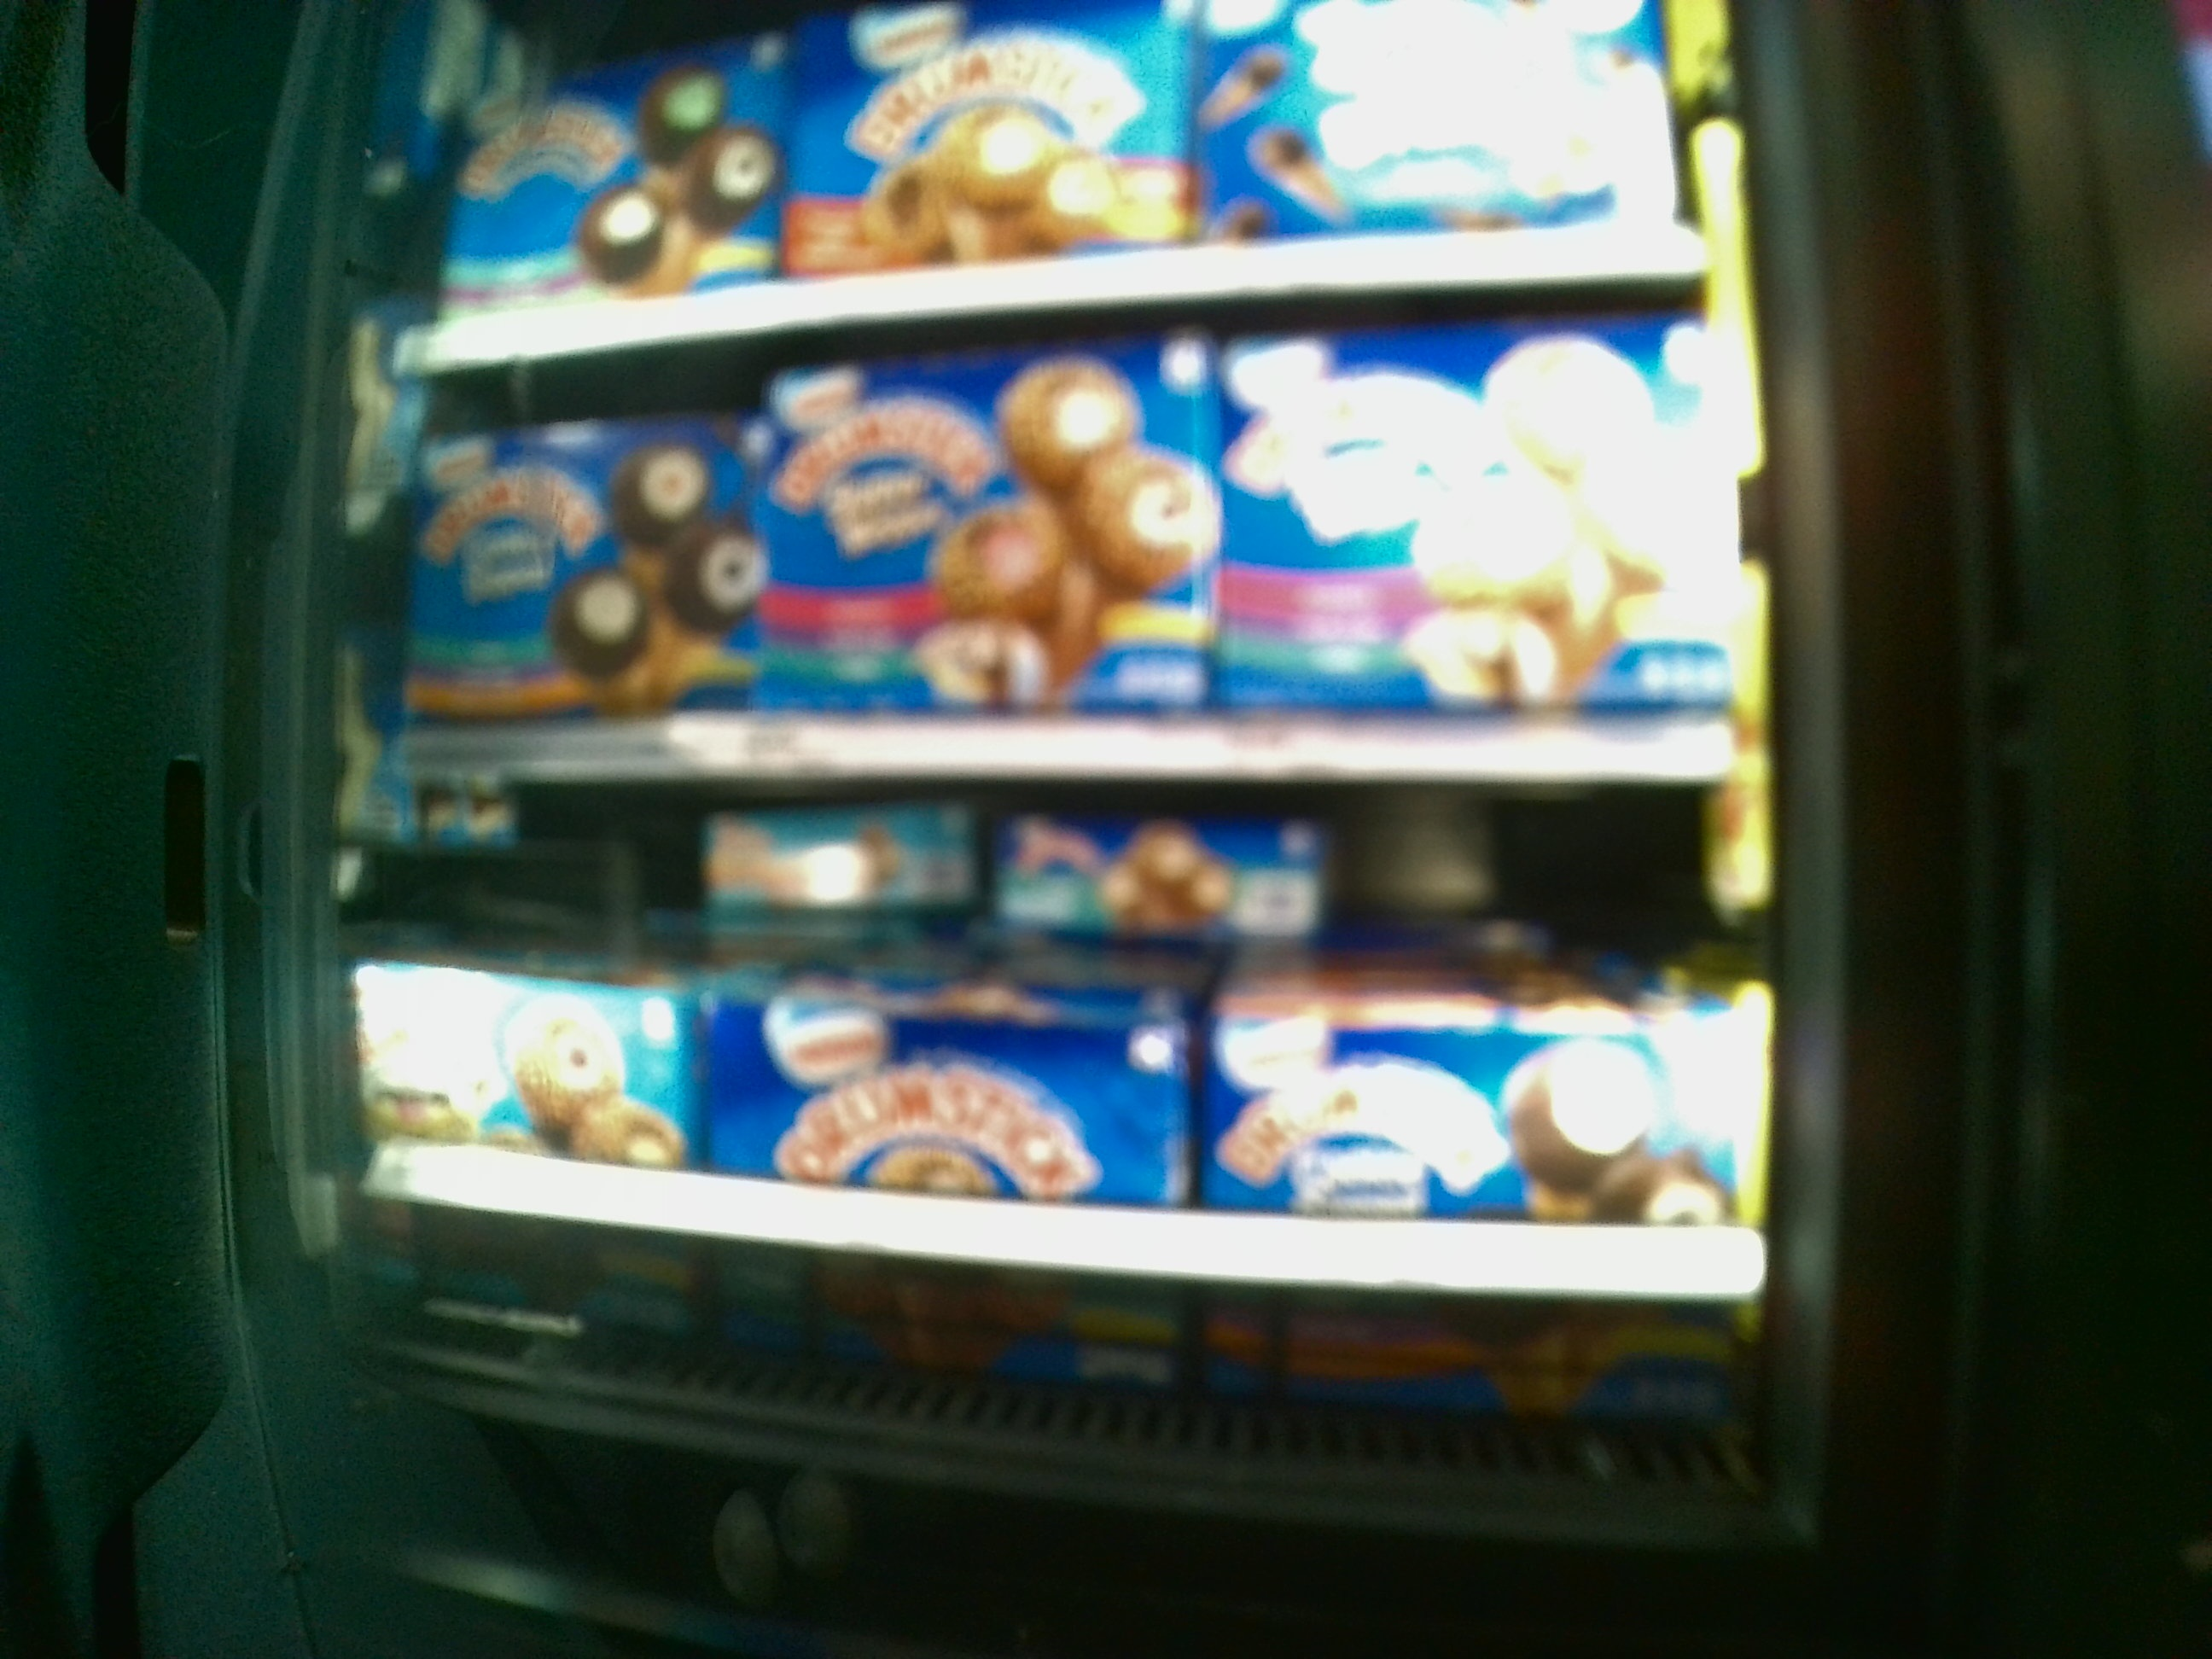shelf: (376, 777, 1737, 1429), (380, 314, 1743, 777)
